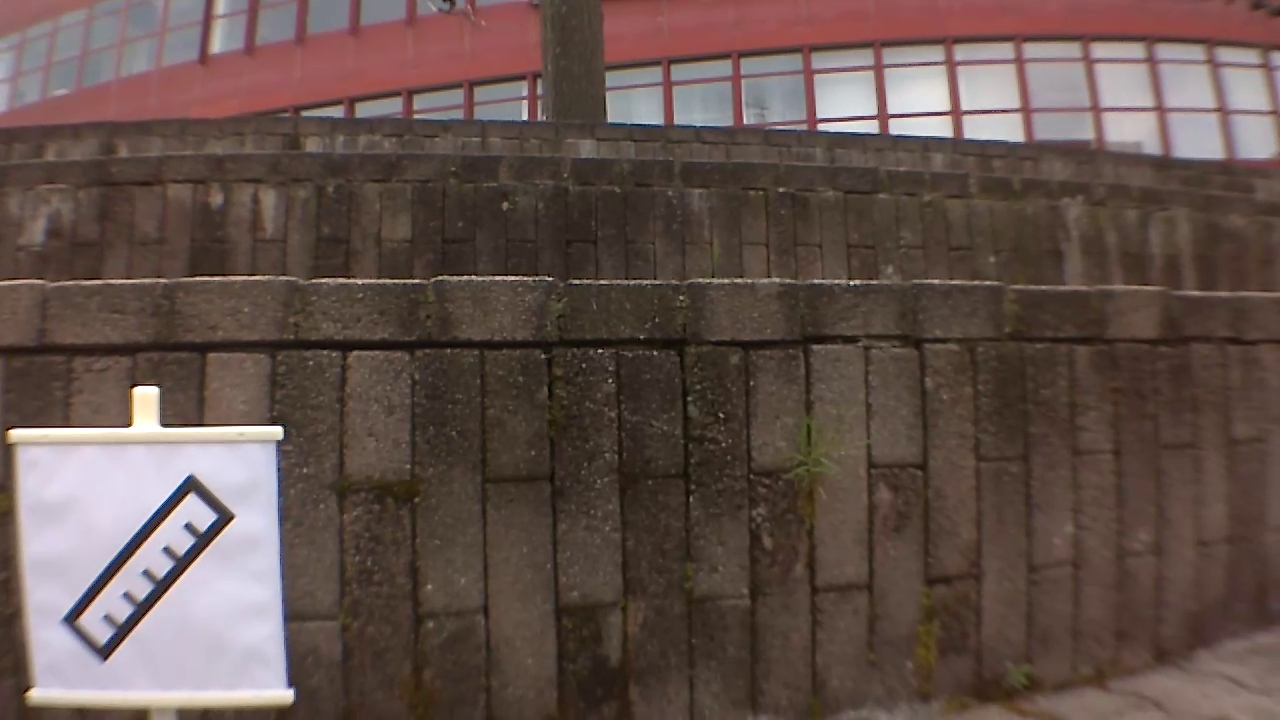ruler: (56, 469, 245, 663)
